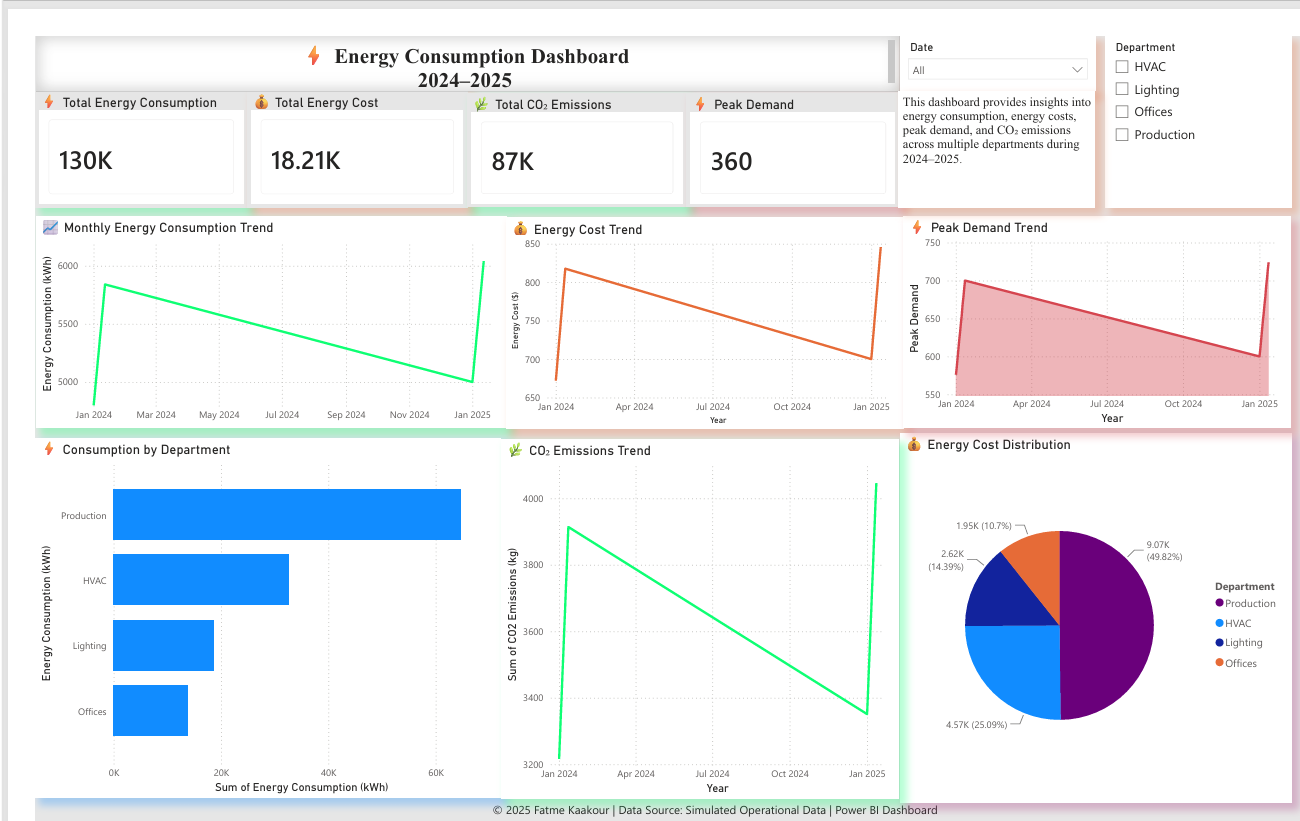

What the dashboard file says about the page in this screenshot:
{"tool":"powerbi","page":{"name":"Page 1","canvas":[1600,1000],"ordinal":0},"visuals":[{"type":"textbox","box":[409.9,969.1,912.5,30.9],"z":0},{"type":"cardVisual","title":"⚡ Total Energy Consumption","fields":{"Data":["Sum(Sheet1.Energy Consumption (kWh))"]},"box":[0,69.8,270.3,148.3],"z":1000},{"type":"cardVisual","title":"💰 Total Energy Cost","fields":{"Data":["Sum(Sheet1.Energy Cost ($))"]},"box":[270.3,69.8,280.5,148.3],"z":2000},{"type":"cardVisual","title":"🌿 Total CO₂ Emissions","fields":{"Data":["Sum(Sheet1.CO2 Emissions (kg))"]},"box":[550.9,72.7,279.1,145.3],"z":3000},{"type":"cardVisual","title":"⚡ Peak Demand","fields":{"Data":["Max(Sheet1.Peak Demand (kW))"]},"box":[829.9,72.7,271.8,145.3],"z":4000},{"type":"textbox","box":[1.7,0,1099.5,70.3],"z":5000},{"type":"slicer","fields":{"Values":["Sheet1.Date"]},"box":[1101.7,0,248.5,69.8],"z":6000},{"type":"slicer","fields":{"Values":["Sheet1.Department"]},"box":[1363.4,0,236.9,218],"z":7000},{"type":"lineChart","title":"📈 Monthly Energy Consumption Trend","fields":{"Y":["Sum(Sheet1.Energy Consumption (kWh))"],"Category":["Sheet1.Date"]},"box":[1.5,229.7,598.8,270.3],"z":8000},{"type":"lineChart","title":"💰 Energy Cost Trend","fields":{"Y":["Sum(Sheet1.Energy Cost ($))"],"Category":["Sheet1.Date.Variation.Date Hierarchy.Year","Sheet1.Date.Variation.Date Hierarchy.Quarter","Sheet1.Date.Variation.Date Hierarchy.Month","Sheet1.Date.Variation.Date Hierarchy.Day"]},"box":[600.3,231.1,505.8,268.9],"z":9000},{"type":"clusteredBarChart","title":"⚡ Consumption by Department","fields":{"Category":["Sheet1.Department"],"Y":["Sum(Sheet1.Energy Consumption (kWh))"]},"box":[0,511.2,593.5,458],"z":10000},{"type":"pieChart","title":"💰 Energy Cost Distribution","fields":{"Category":["Sheet1.Department"],"Y":["Sum(Sheet1.Energy Cost ($))"]},"box":[1101.2,506,499.1,470],"z":11000},{"type":"lineChart","title":"🌿 CO₂ Emissions Trend","fields":{"Y":["Sum(Sheet1.CO2 Emissions (kg))"],"Category":["Sheet1.Date.Variation.Date Hierarchy.Year","Sheet1.Date.Variation.Date Hierarchy.Quarter","Sheet1.Date.Variation.Date Hierarchy.Month","Sheet1.Date.Variation.Date Hierarchy.Day"]},"box":[595.2,512.9,506,458],"z":12000},{"type":"areaChart","title":"⚡ Peak Demand Trend","fields":{"Y":["Sum(Sheet1.Peak Demand (kW))"],"Category":["Sheet1.Date.Variation.Date Hierarchy.Year","Sheet1.Date.Variation.Date Hierarchy.Quarter","Sheet1.Date.Variation.Date Hierarchy.Month","Sheet1.Date.Variation.Date Hierarchy.Day"]},"box":[1106.1,229.7,494.2,270.3],"z":13000},{"type":"textbox","box":[1100.3,69.8,250,148.3],"z":14000}]}

Visuals, with their boxes in screenshot pixels (x1, y1, x2, y2), scaled from the page's 1600x1000 canvas onto the 1300x821 screenshot:
textbox: <bbox>333, 796, 1074, 820</bbox>
"⚡ Total Energy Consumption" cardVisual: <bbox>0, 57, 220, 179</bbox>
"💰 Total Energy Cost" cardVisual: <bbox>220, 57, 448, 179</bbox>
"🌿 Total CO₂ Emissions" cardVisual: <bbox>448, 60, 674, 179</bbox>
"⚡ Peak Demand" cardVisual: <bbox>674, 60, 895, 179</bbox>
textbox: <bbox>1, 0, 895, 58</bbox>
slicer - Sheet1.Date: <bbox>895, 0, 1097, 57</bbox>
slicer - Sheet1.Department: <bbox>1108, 0, 1299, 179</bbox>
"📈 Monthly Energy Consumption Trend" lineChart: <bbox>1, 189, 488, 410</bbox>
"💰 Energy Cost Trend" lineChart: <bbox>488, 190, 899, 410</bbox>
"⚡ Consumption by Department" clusteredBarChart: <bbox>0, 420, 482, 796</bbox>
"💰 Energy Cost Distribution" pieChart: <bbox>895, 415, 1299, 801</bbox>
"🌿 CO₂ Emissions Trend" lineChart: <bbox>484, 421, 895, 797</bbox>
"⚡ Peak Demand Trend" areaChart: <bbox>899, 189, 1299, 410</bbox>
textbox: <bbox>894, 57, 1097, 179</bbox>
